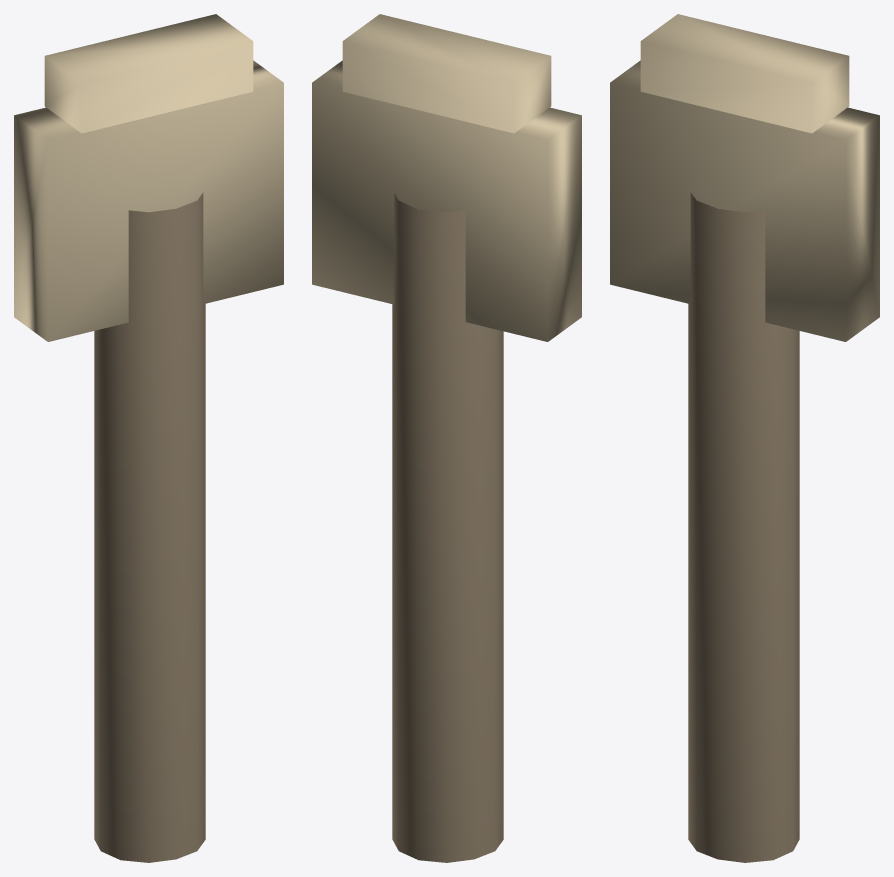
The model's file is mile_marker.glb.
3 renders of one model, left to right at view 1: azimuth 30°, elevation 25°; view 2: azimuth 150°, elevation 25°; view 3: azimuth 330°, elevation 25°, orthographic.
Parts seen in each view (by area): view 1: mile_marker; view 2: mile_marker; view 3: mile_marker.
Boxes of the visible parts, box(x1,y1,x2,y2) form: mile_marker: box(14, 14, 283, 862); mile_marker: box(312, 14, 581, 862); mile_marker: box(610, 14, 879, 862).
Bounding box in the file's own units: 0.22 × 0.705 × 0.09.
